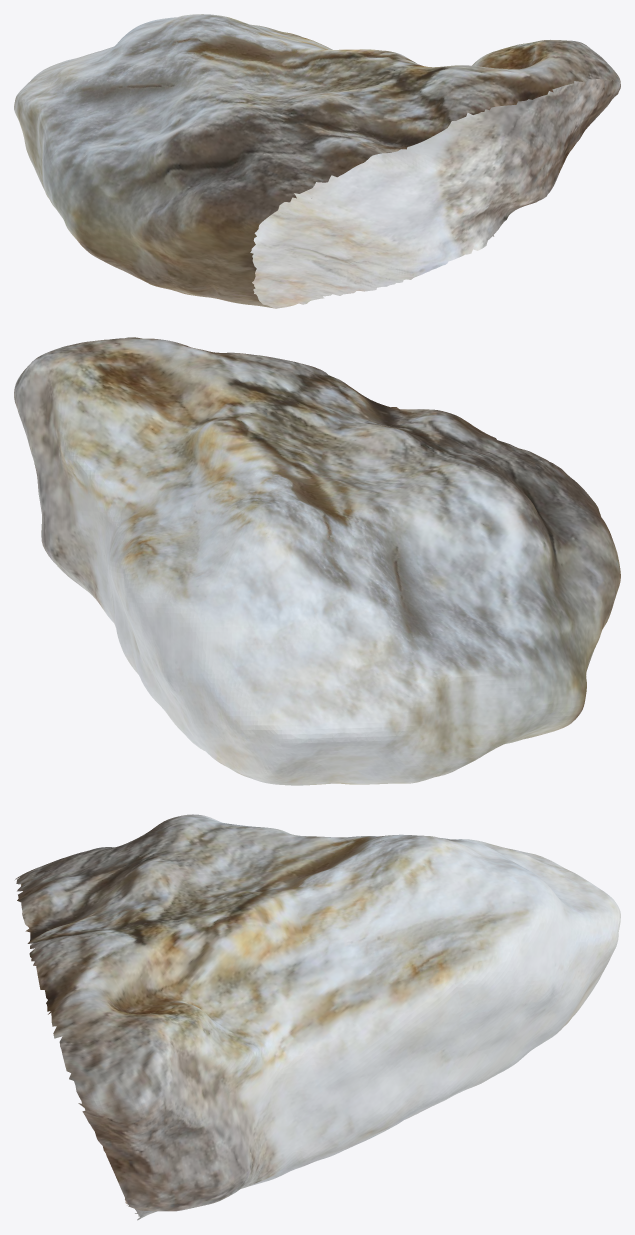
Rendered from gypsum.glb.
3 renders of one model, top to bottom at view 1: azimuth 30°, elevation 25°; view 2: azimuth 150°, elevation 25°; view 3: azimuth 270°, elevation 25°, orthographic. The views are drawn at different scales.
Visible parts, largest first — view 1: mat-0; view 2: mat-0; view 3: mat-0.
Boxes of the visible parts, left/top/right/bottom form: mat-0: left=14, top=14, right=620, bottom=308; mat-0: left=14, top=337, right=620, bottom=785; mat-0: left=15, top=814, right=620, bottom=1220.
Size of the model in its own units: 0.12 by 0.0501 by 0.0982.
Materials: 1 (1 with a texture image).
